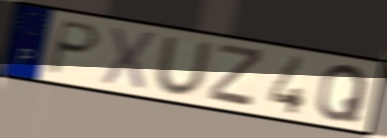4: (266, 53, 305, 116)
P: (43, 18, 103, 77)
Q: (314, 62, 370, 123)
U: (154, 35, 215, 99)
X: (99, 24, 159, 94)
Z: (206, 42, 266, 110)
